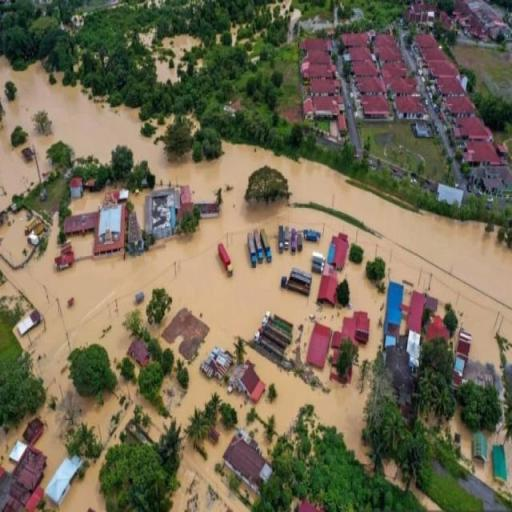flood: (0, 63, 512, 428), (248, 350, 368, 464), (58, 388, 135, 512), (170, 420, 250, 512), (441, 409, 512, 490), (114, 370, 172, 442), (34, 407, 68, 488), (156, 34, 201, 83), (0, 416, 34, 472), (0, 209, 33, 264), (148, 325, 189, 364), (70, 185, 124, 214), (240, 420, 278, 458), (409, 482, 444, 512), (129, 189, 152, 230), (152, 115, 176, 138), (386, 462, 405, 488), (287, 9, 301, 42), (138, 27, 157, 48), (268, 0, 292, 16), (186, 114, 201, 134), (424, 416, 438, 424), (505, 348, 512, 364)
house: (349, 36, 396, 118), (300, 39, 341, 131), (222, 434, 270, 495), (373, 29, 413, 101), (1, 445, 45, 507), (96, 196, 132, 256), (462, 0, 509, 42), (304, 316, 333, 374), (229, 360, 263, 402), (463, 138, 499, 167), (455, 114, 494, 140), (327, 230, 348, 270), (319, 274, 338, 309), (446, 94, 476, 116), (127, 341, 151, 366), (473, 430, 489, 466)
